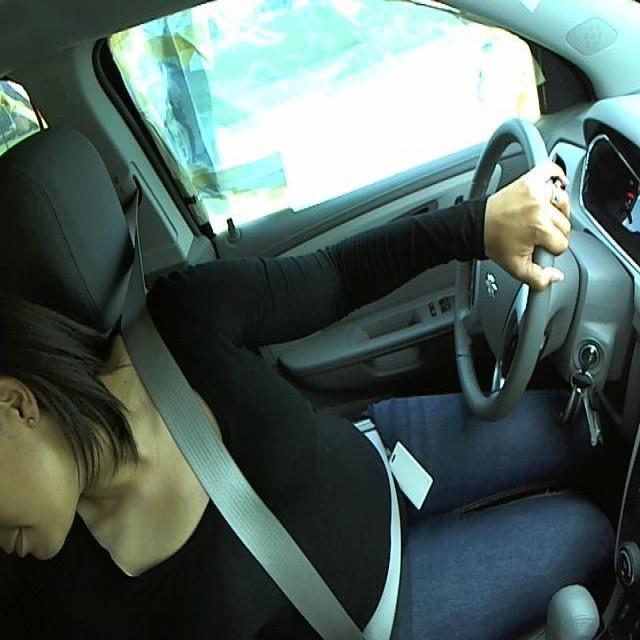seatbelt: (109, 351, 413, 638)
